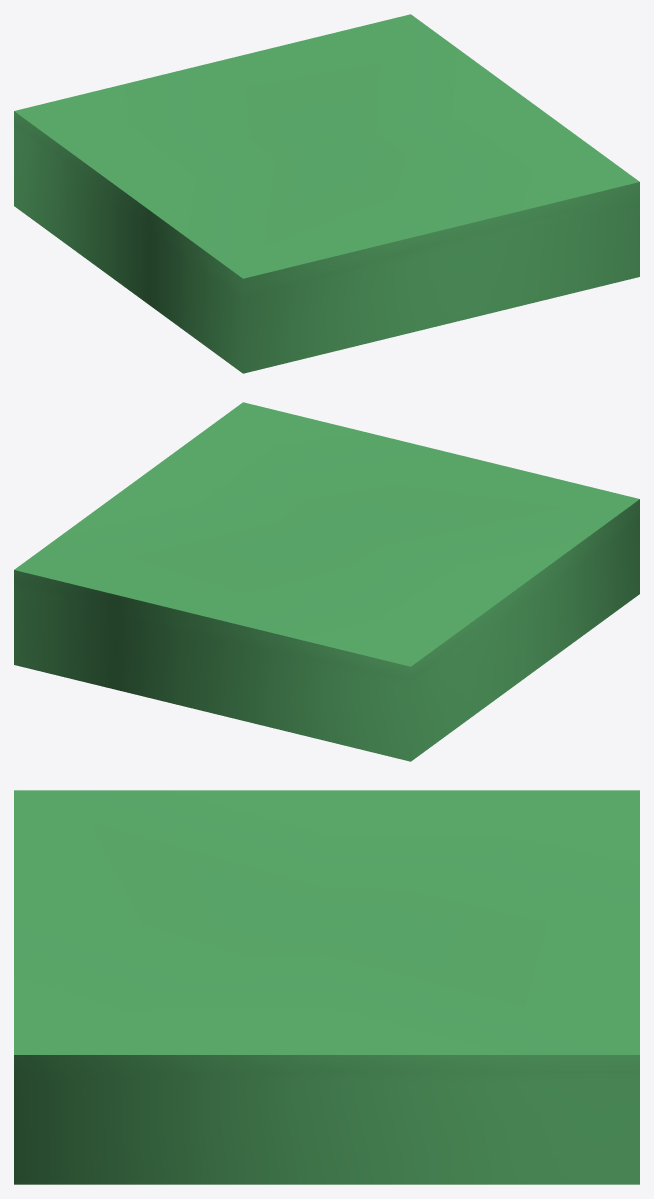
File: recipe-jello-foundation.glb
The picture shows the model from 3 angles, top to bottom: view 1: azimuth 30°, elevation 25°; view 2: azimuth 150°, elevation 25°; view 3: azimuth 270°, elevation 25°; orthographic projection. The views are drawn at different scales.
Parts seen in each view (by area): view 1: Recipe jello rounded-footprint foundation; view 2: Recipe jello rounded-footprint foundation; view 3: Recipe jello rounded-footprint foundation.
Boxes of the visible parts, box(x1,y1,x2,y2) form: Recipe jello rounded-footprint foundation: box(14, 14, 639, 373); Recipe jello rounded-footprint foundation: box(14, 402, 639, 761); Recipe jello rounded-footprint foundation: box(14, 790, 639, 1184).
Size of the model in its own units: 5.03 by 1.15 by 5.03.
